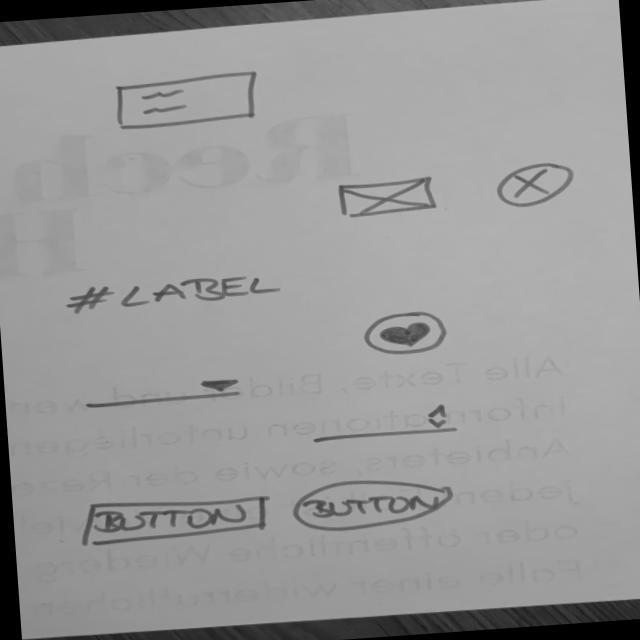button: (74, 489, 275, 550), (284, 471, 459, 537)
icon-button: (358, 306, 452, 358)
image: (332, 174, 441, 222), (489, 160, 578, 210)
label: (61, 269, 284, 316)
number-input: (303, 398, 463, 446)
select: (80, 372, 247, 410)
textarea: (108, 67, 266, 135)
